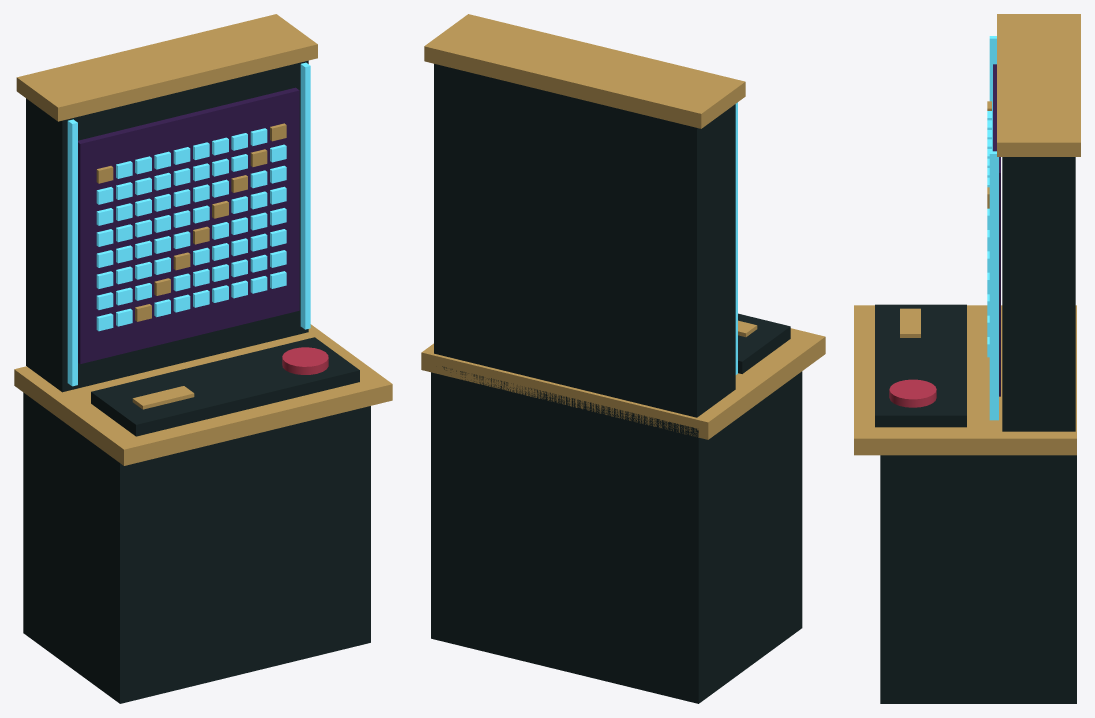
The model's file is keno.glb.
The picture shows the model from 3 angles, left to right: view 1: azimuth 30°, elevation 25°; view 2: azimuth 150°, elevation 25°; view 3: azimuth 270°, elevation 25°; orthographic projection. The views are drawn at different scales.
Size of the model in its own units: 1.2 by 2.37 by 0.865.
